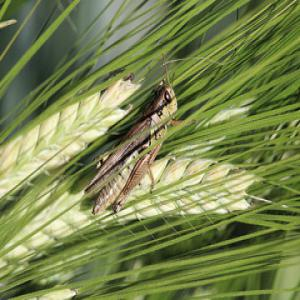locust: (93, 74, 183, 224)
